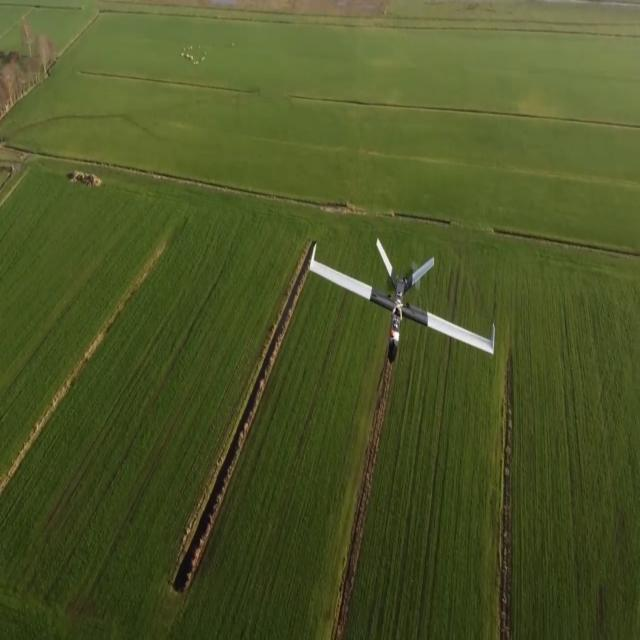iha: (310, 232, 502, 363)
